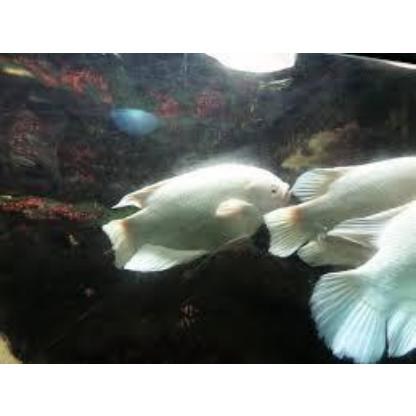gurame: (104, 166, 286, 272)
